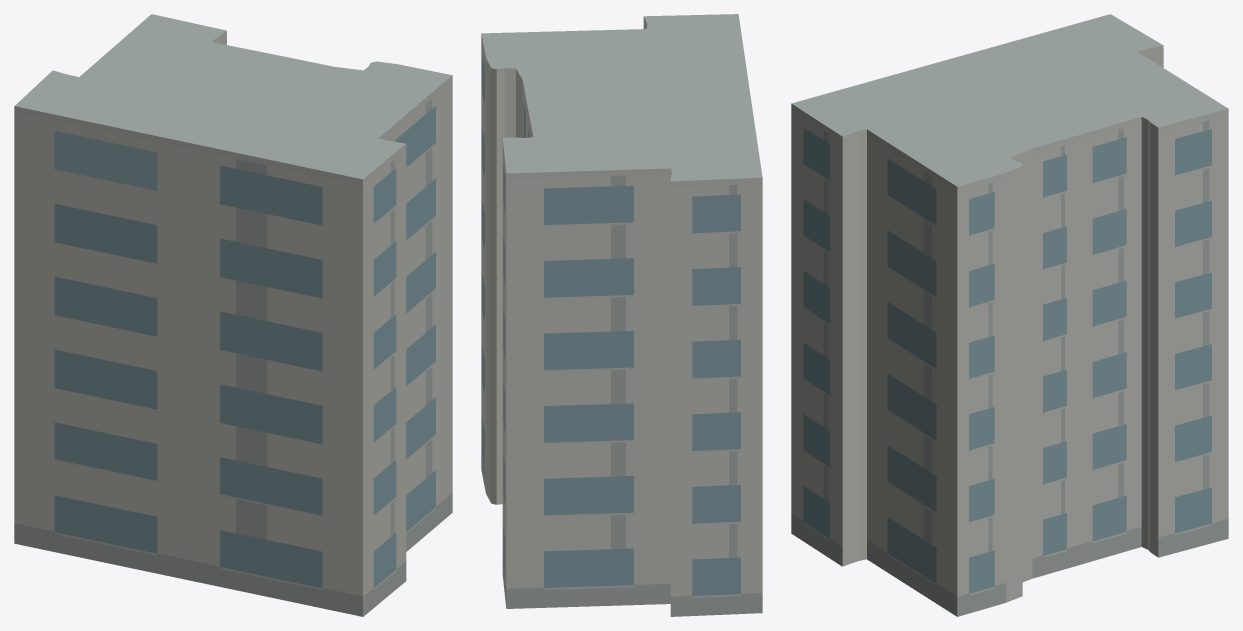
File: survey-upis-32851153.glb
The picture shows the model from 3 angles, left to right: view 1: azimuth 30°, elevation 25°; view 2: azimuth 150°, elevation 25°; view 3: azimuth 270°, elevation 25°; orthographic projection.
Parts seen in each view (by area): view 1: survey-upis-32851153.tmp; view 2: survey-upis-32851153.tmp; view 3: survey-upis-32851153.tmp.
Boxes of the visible parts, <box> form: survey-upis-32851153.tmp: <box>14,14,452,616</box>; survey-upis-32851153.tmp: <box>481,14,762,616</box>; survey-upis-32851153.tmp: <box>791,14,1228,616</box>.
Size of the model in its own units: 14.57 by 16.9 by 15.58.
